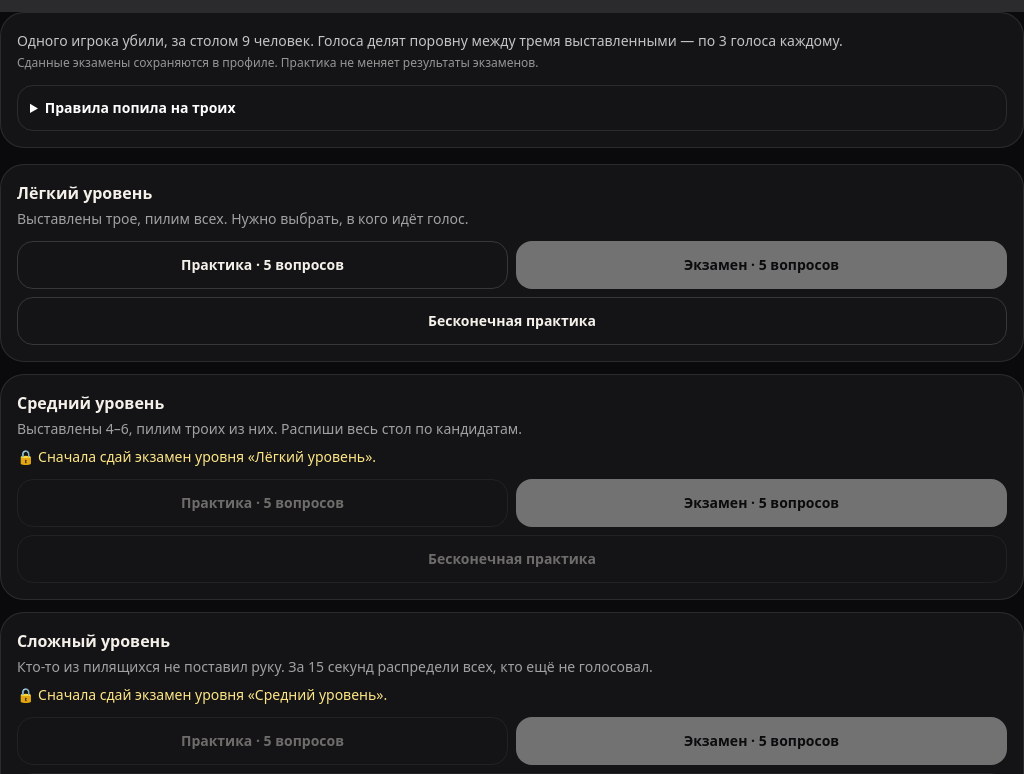
Test: three-way split trainer screen › asks for your own vote at the easy level and explains who votes where
Expected: the element with test id "split-three-level-three_medium" shows "Сначала сдай экзамен", [17,447,255,466]
What coordinates should you click on to do the following:
click the 1st button "Практика · 5 вопросов"
I would click on:
 (262, 265)
Its box is [17,241,508,289].
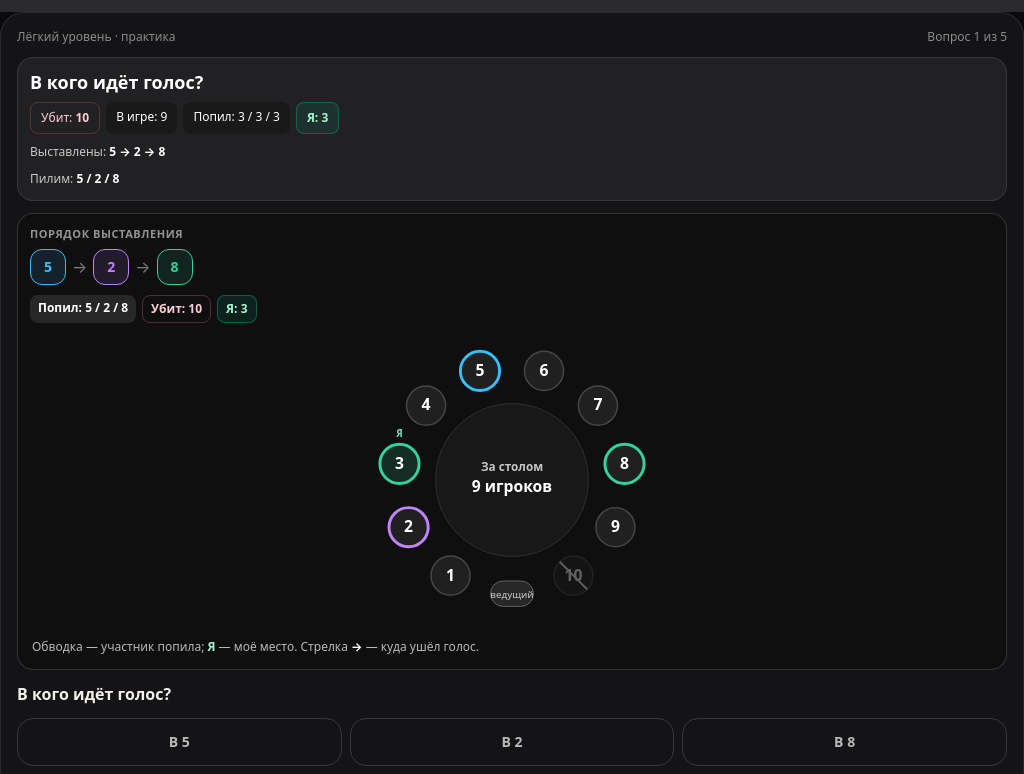
What coordinates should you click on to do the following:
click the button "В 5"
I would click on:
 (179, 742)
Its box is [17,718,342,766].
(page scrolled)
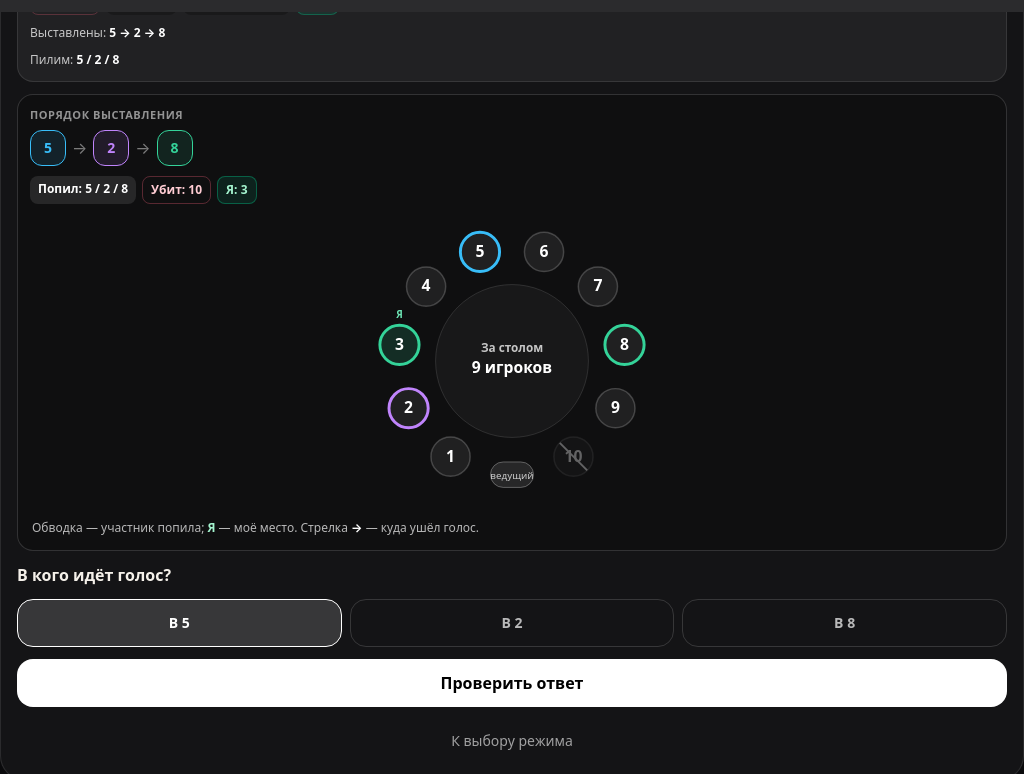
What coordinates should you click on to do the following:
click the button "Проверить ответ"
I would click on:
 (512, 682)
Its box is [17,658,1007,706].
(page scrolled)
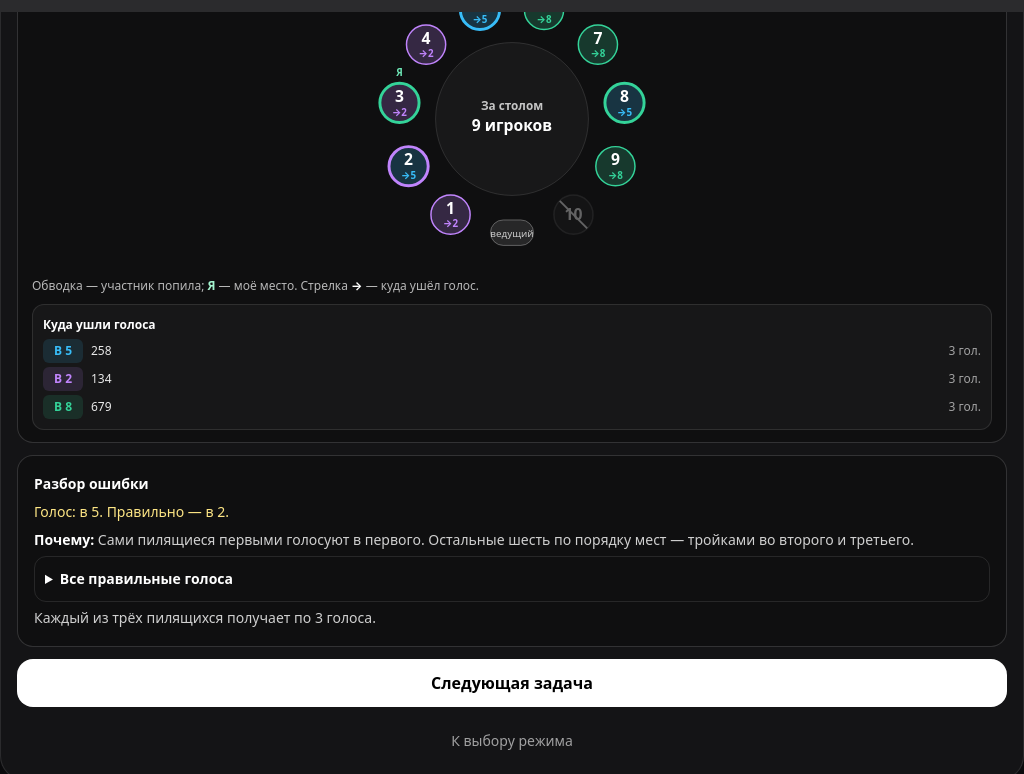
Expected: the message shows "Правильно — в 2", [17,454,1007,646]
